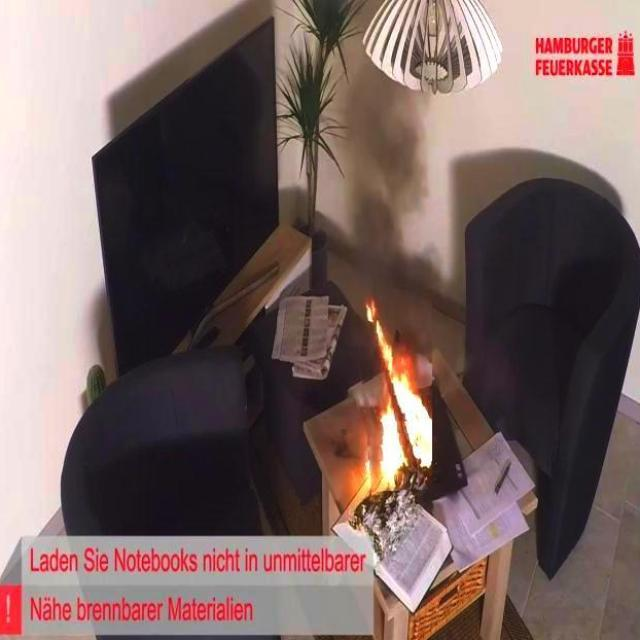fire: (333, 8, 442, 300)
smoke: (354, 288, 432, 492)
